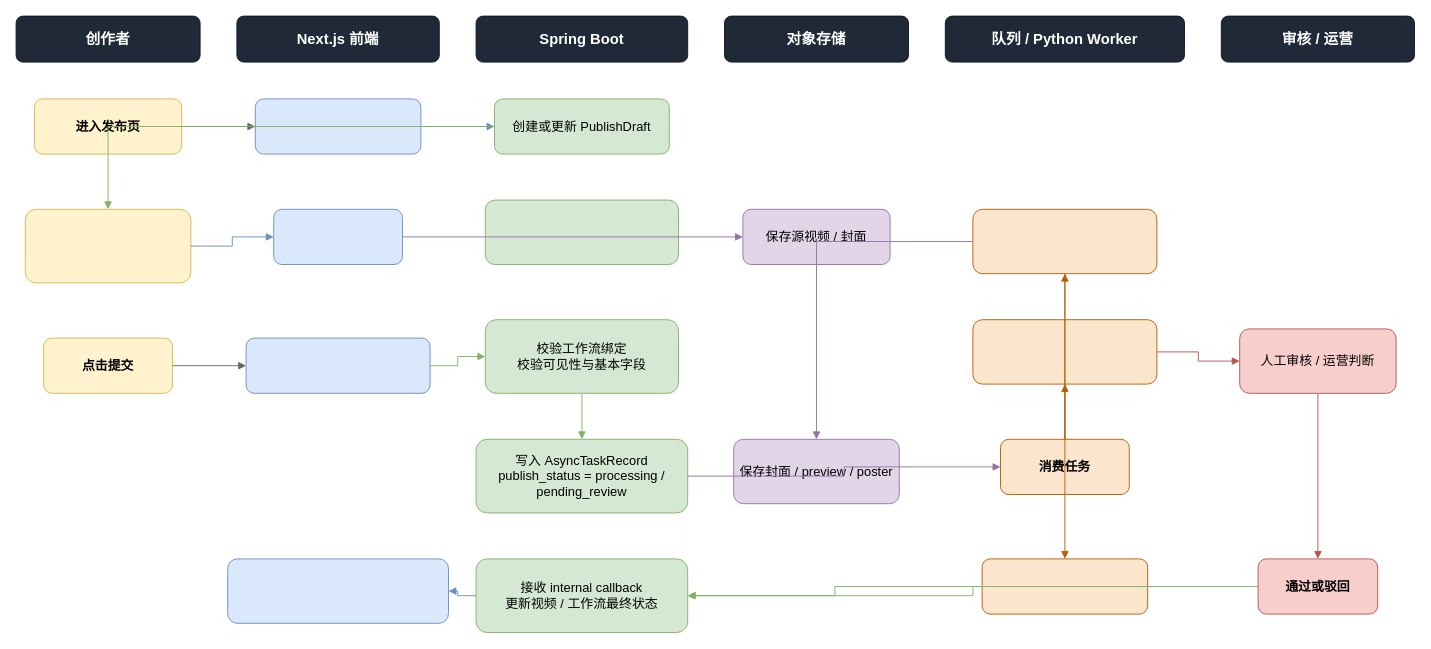
This 1431x649 diagram has some shape labels left out. Here are the shapes that lost their labels. From the top down, the box of each, then its label:
(254, 98, 421, 154): 请求草稿 / 上传策略
(24, 208, 191, 283): 填写标题 / 简介 / 标签 选择工作流 / 可见性
(273, 208, 402, 264): 直传视频 / 封面
(484, 199, 678, 264): 登记 MediaAsset / 返回 upload policy
(972, 208, 1157, 274): 转码 / 抽帧 / 预览生成
(245, 337, 430, 393): 保存草稿并调用提交接口
(972, 319, 1157, 384): 工作流校验 / 审核辅助
(227, 558, 448, 623): 显示 processing / rejected / published 状态
(981, 558, 1148, 614): 回调 /api/internal/**
